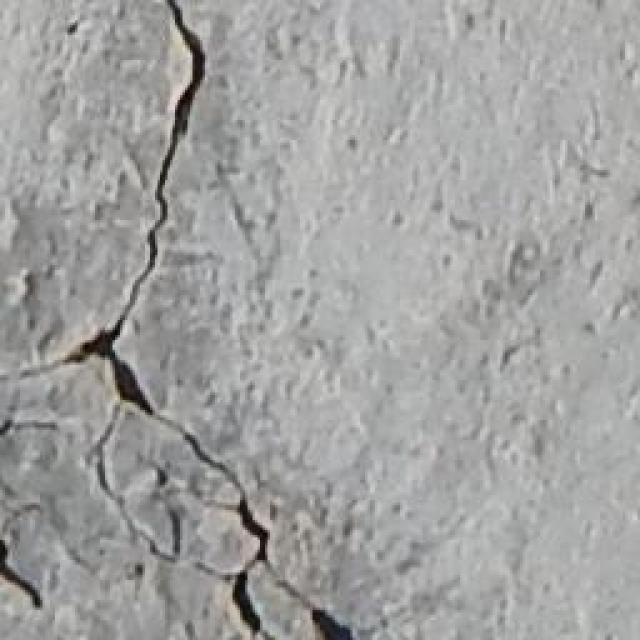concrete-crack: (0, 0, 368, 640), (0, 527, 53, 616)
